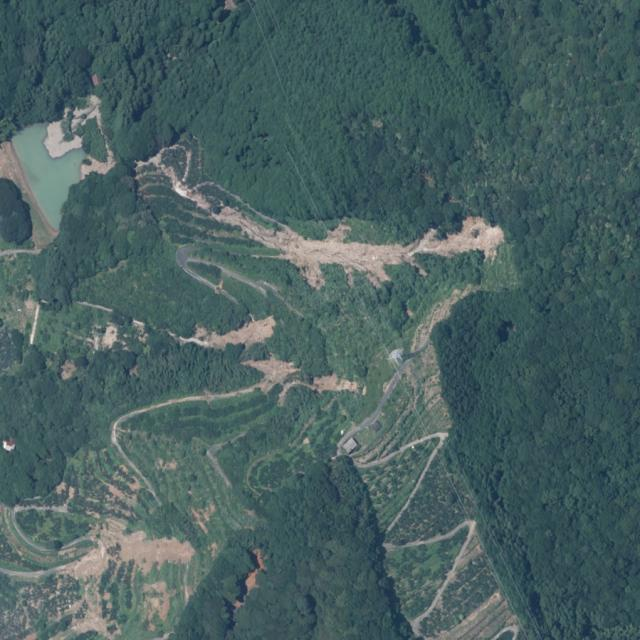landslide: (211, 202, 505, 287), (65, 520, 195, 582), (139, 150, 216, 209), (404, 289, 471, 353), (171, 316, 276, 349), (242, 355, 300, 392)
